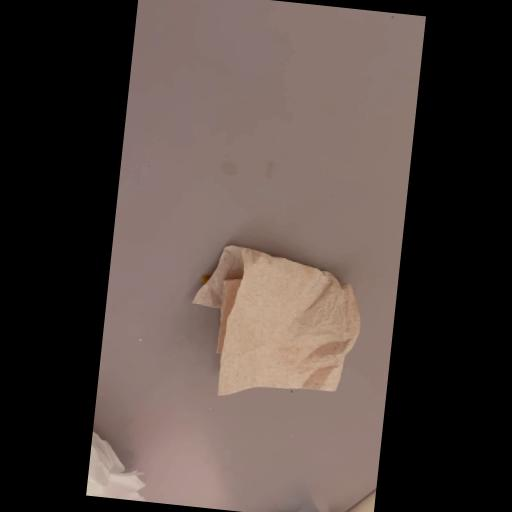napkin: (176, 232, 377, 410)
